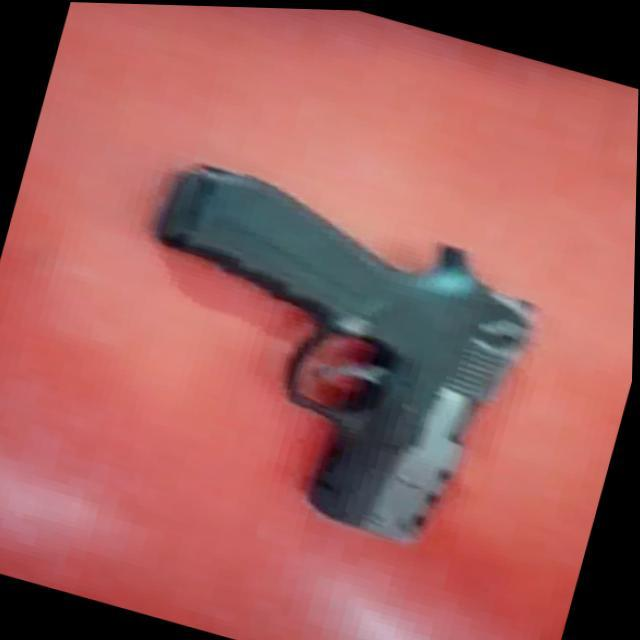weapon: (91, 148, 559, 560)
